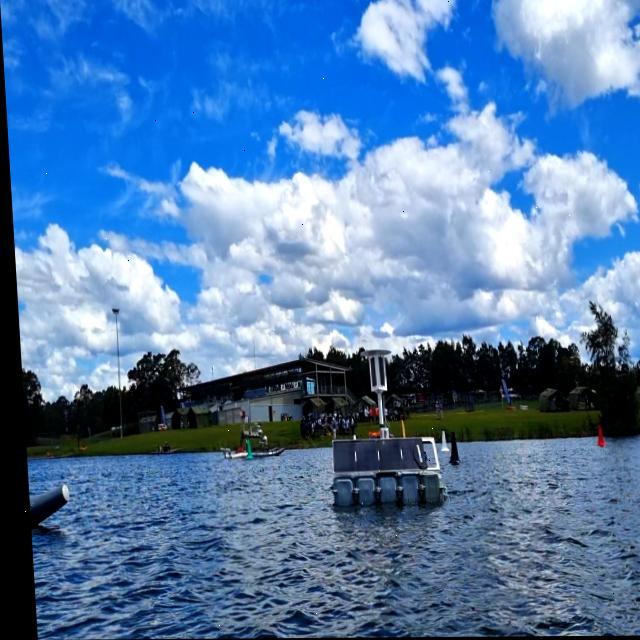led: (372, 355, 382, 389), (365, 357, 373, 388)
